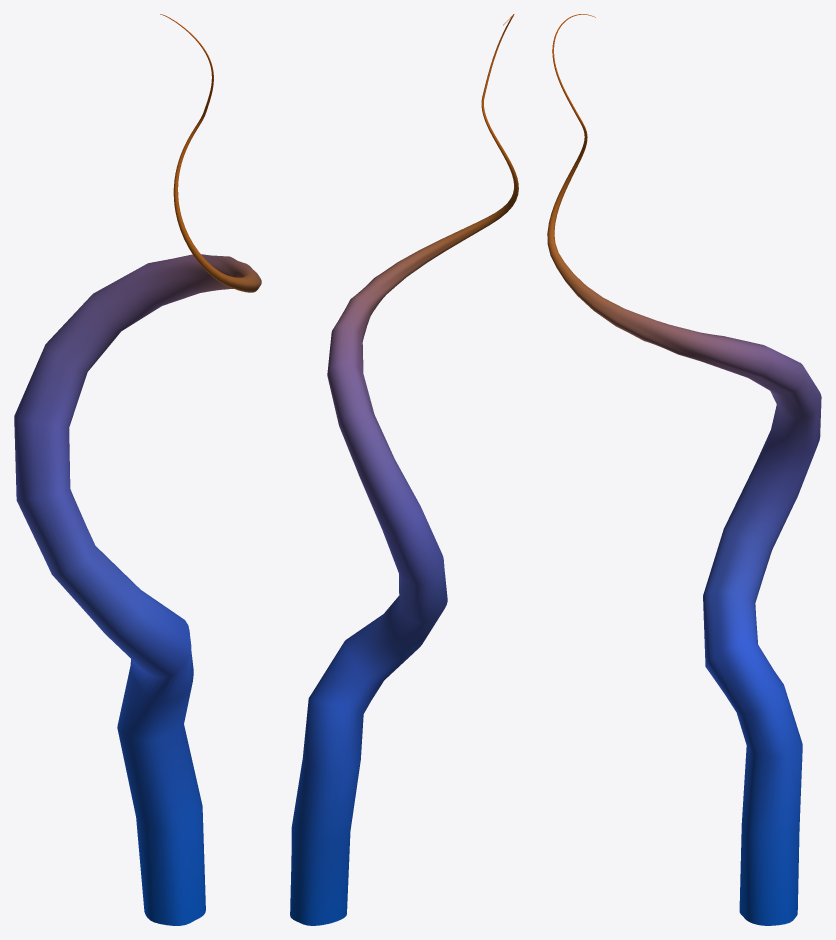
Rendered from Tentacle_C.fbx.
The picture shows the model from 3 angles, left to right: view 1: azimuth 30°, elevation 25°; view 2: azimuth 150°, elevation 25°; view 3: azimuth 270°, elevation 25°; orthographic projection. The views are drawn at different scales.
Parts seen in each view (by area): view 1: Tentacle_C_LOD0; view 2: Tentacle_C_LOD0; view 3: Tentacle_C_LOD0.
Part boxes in pixels (x1,y1,x2,y2): Tentacle_C_LOD0: [14, 14, 261, 925]; Tentacle_C_LOD0: [290, 14, 518, 925]; Tentacle_C_LOD0: [547, 14, 821, 925].
Size of what is drawn, in the model's own units: 8.34 by 45.41 by 13.24.
